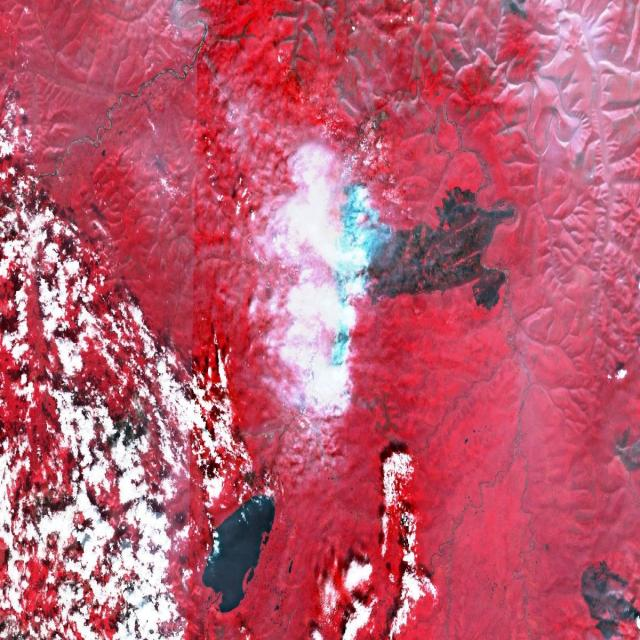fire: (324, 176, 396, 370)
